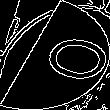O_NW: (10, 25, 100, 85)
